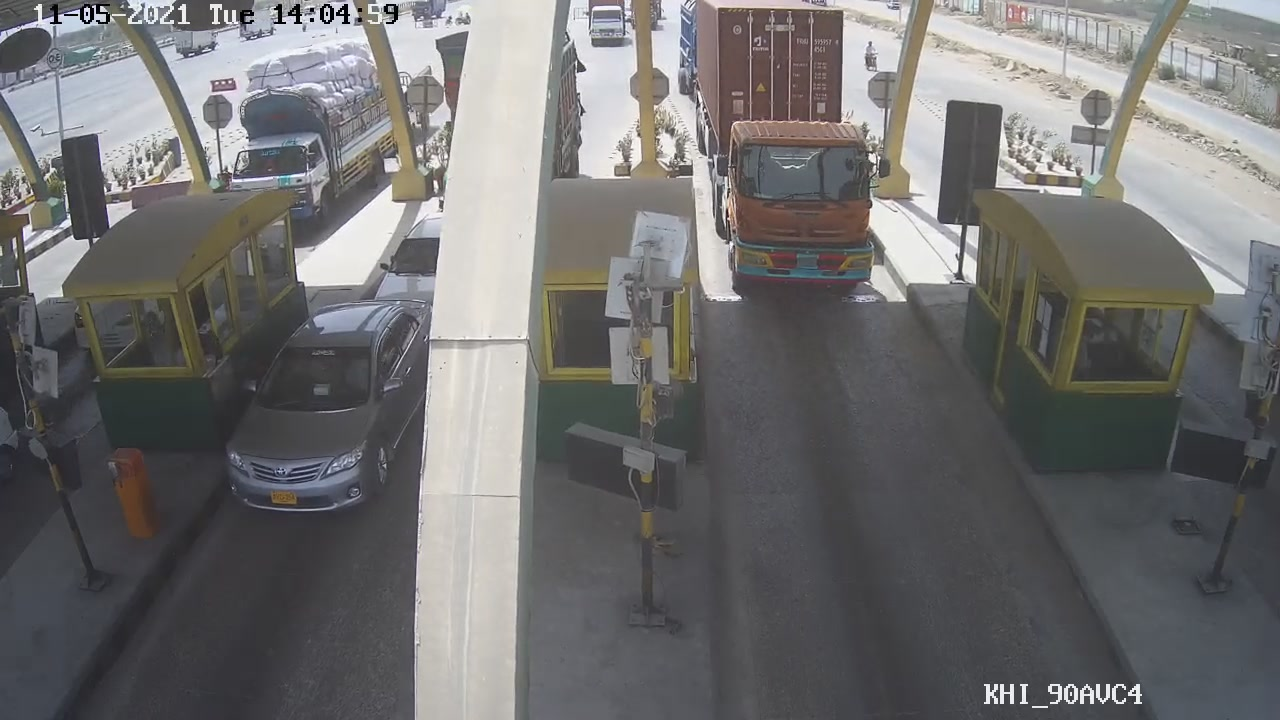F6: (692, 1, 891, 303)
